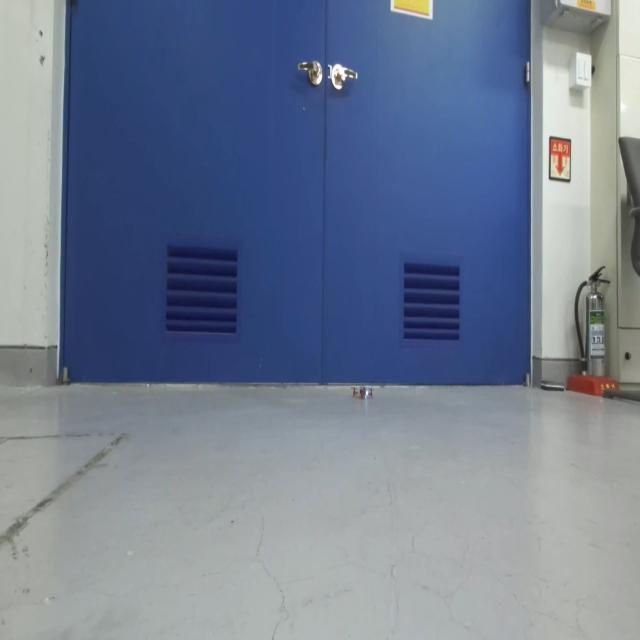crazyflie: (349, 383, 376, 407)
